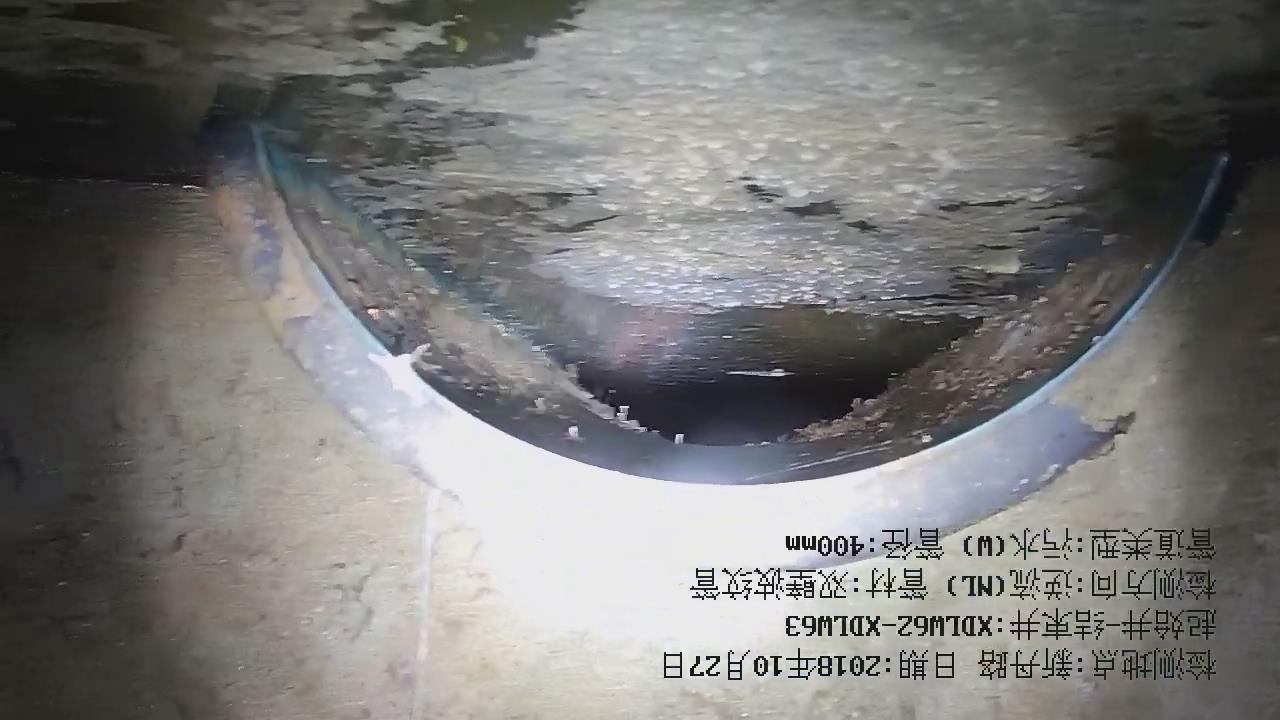FZ: (177, 1, 1280, 404)
